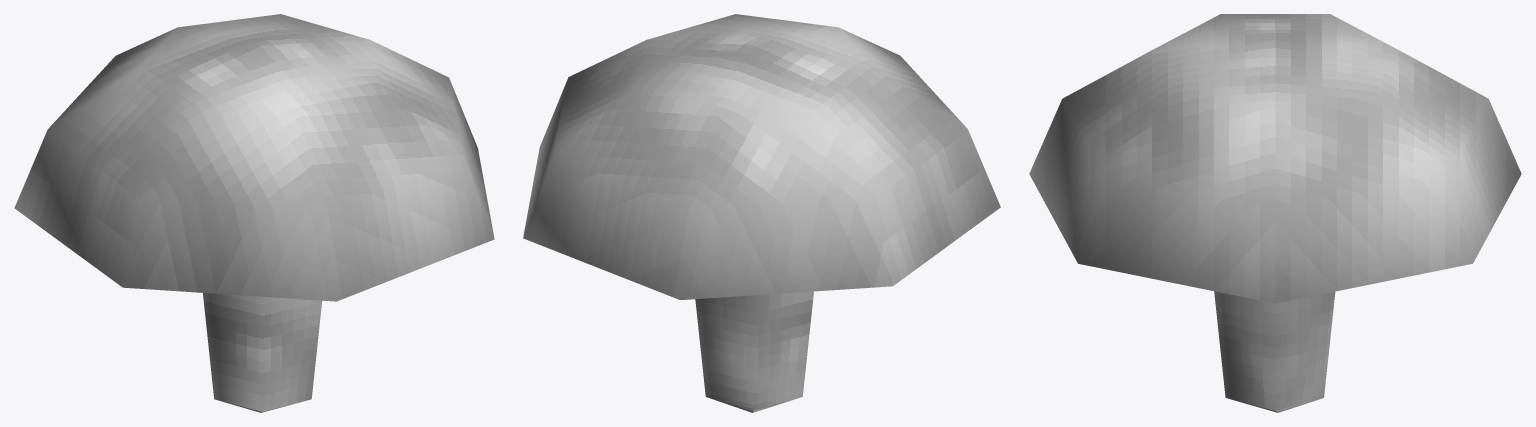
File: fungus04.obj
3 views of the same model, side by side, from view 1: azimuth 30°, elevation 25°; view 2: azimuth 150°, elevation 25°; view 3: azimuth 270°, elevation 25° (orthographic).
Parts seen in each view (by area): view 1: Sphere02, Cylinder03; view 2: Sphere02, Cylinder03; view 3: Sphere02, Cylinder03.
Part boxes in pixels (bbox=[...]): Sphere02: bbox=[14, 14, 494, 301]; Cylinder03: bbox=[203, 293, 322, 412]; Sphere02: bbox=[523, 14, 1000, 299]; Cylinder03: bbox=[695, 291, 813, 412]; Sphere02: bbox=[1029, 14, 1521, 303]; Cylinder03: bbox=[1214, 291, 1335, 412].
Size of the model in its own units: 26.33 by 22.66 by 27.18.
